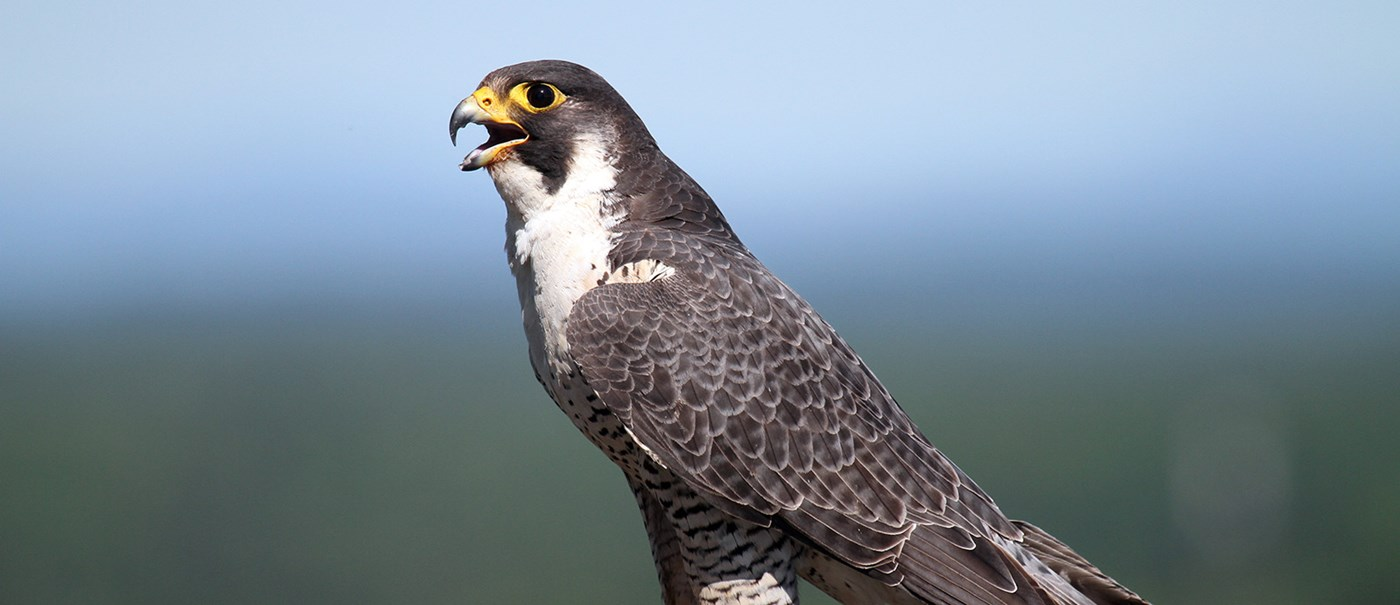Pengoyak Daging: (424, 73, 508, 183)
